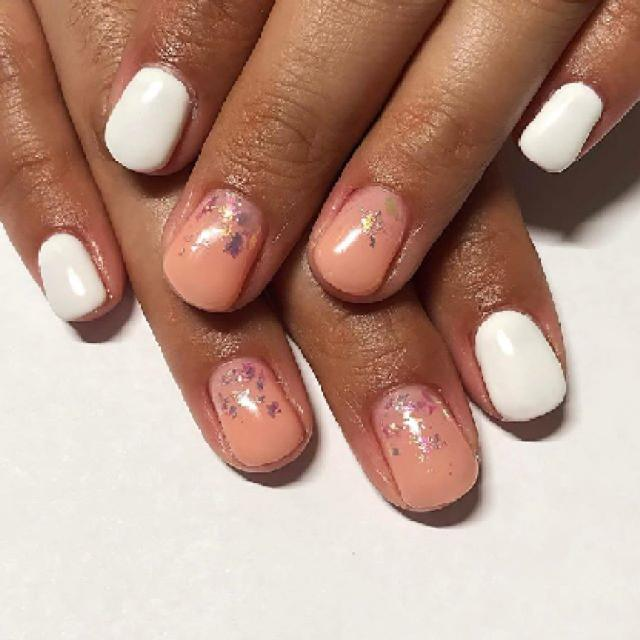Nail: (374, 385, 479, 509), (164, 190, 261, 309), (311, 186, 408, 294), (210, 359, 304, 468), (475, 310, 564, 421), (104, 66, 192, 172), (519, 82, 601, 171), (38, 231, 109, 319)
